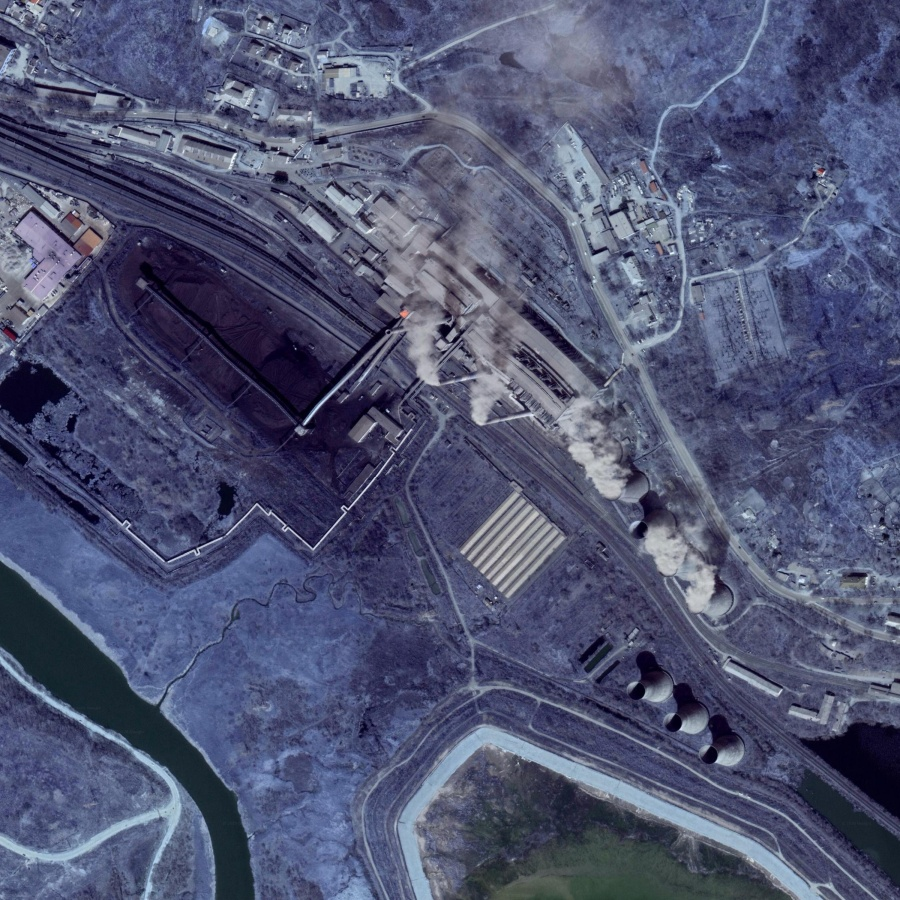PowerPlant: (112, 184, 553, 477), (565, 406, 779, 779)
